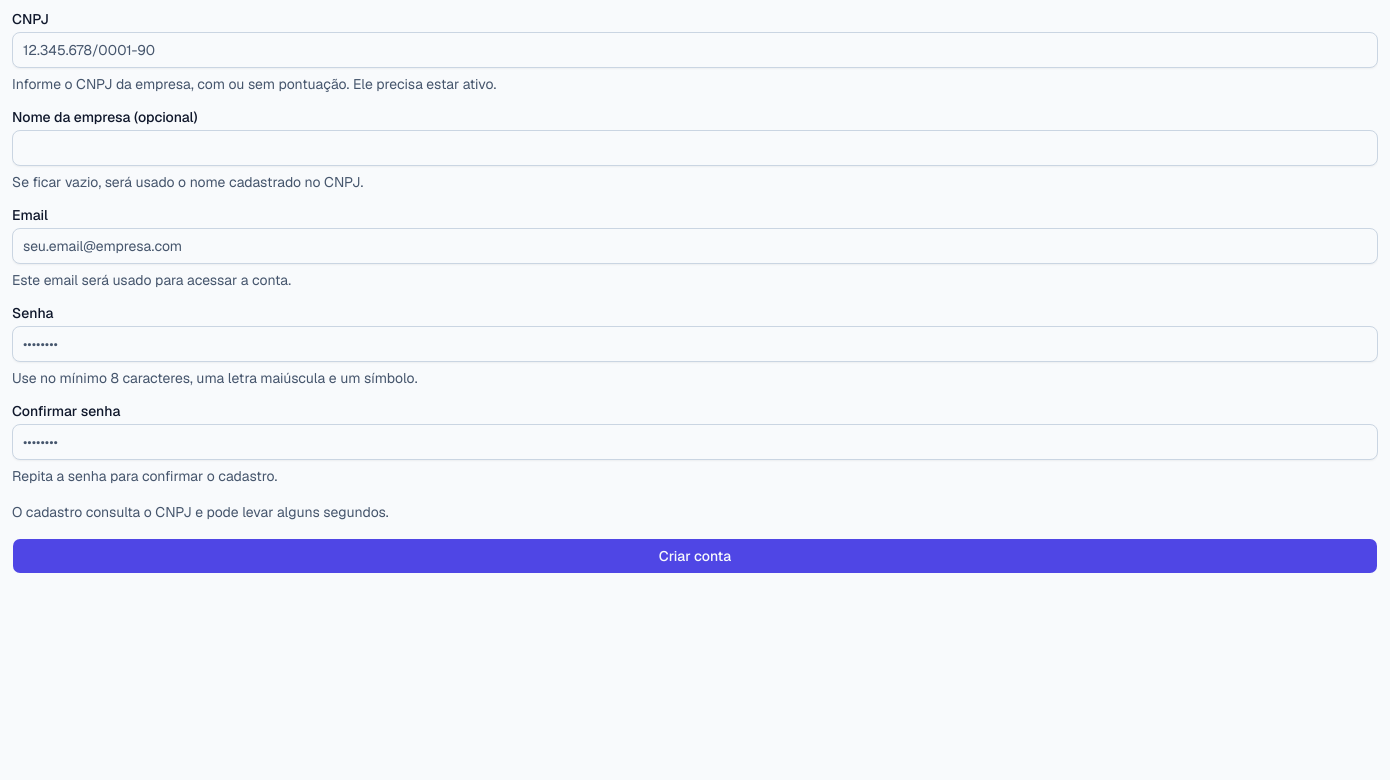
Scenario: registration UI › offers login instead of a second registration when automatic login fails
In the field labelled "CNPJ": (695,50) x1=12 y1=32 x2=1378 y2=68, type "55444333000101"
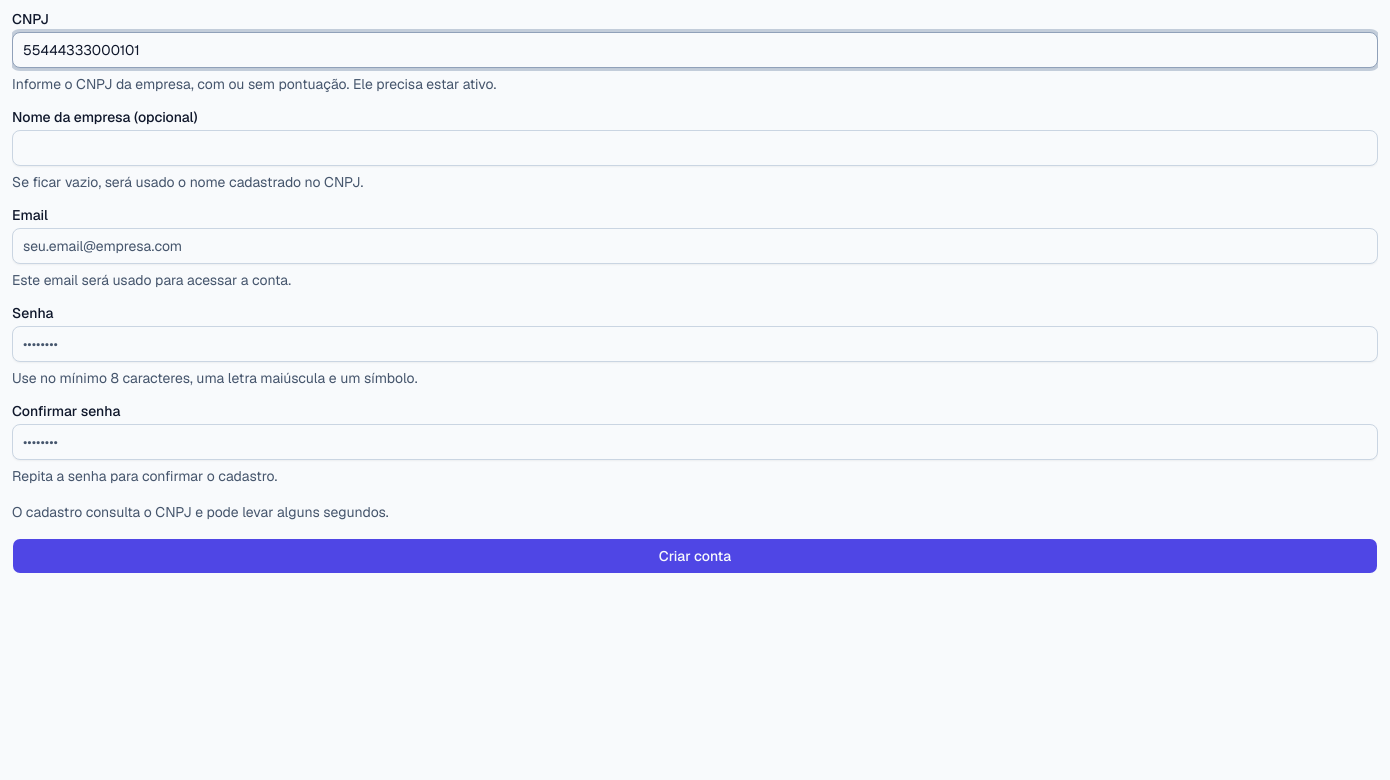
In the field labelled "Email": (695,246) x1=12 y1=228 x2=1378 y2=264, type "test@example.com"
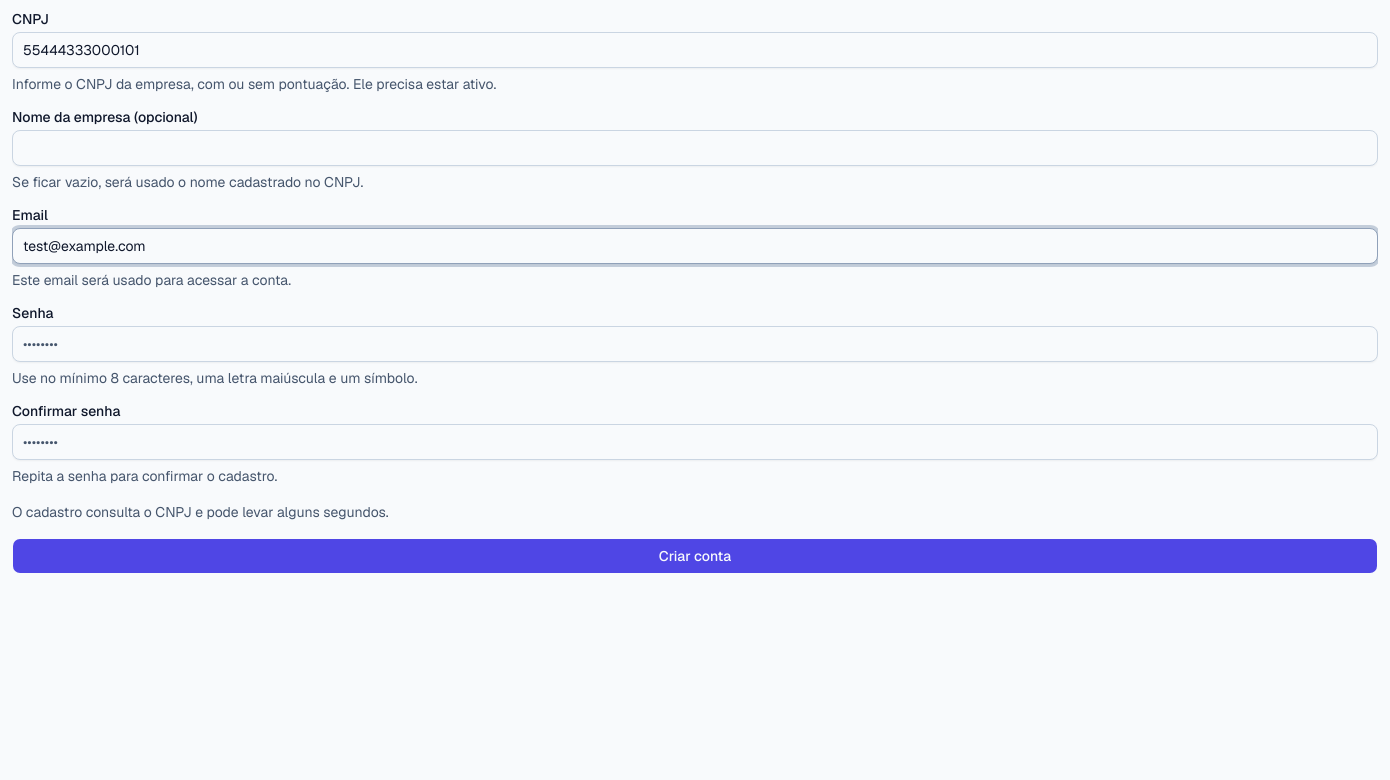
In the password field labelled "Senha": (695,344) x1=12 y1=326 x2=1378 y2=362, type "Test-password!"
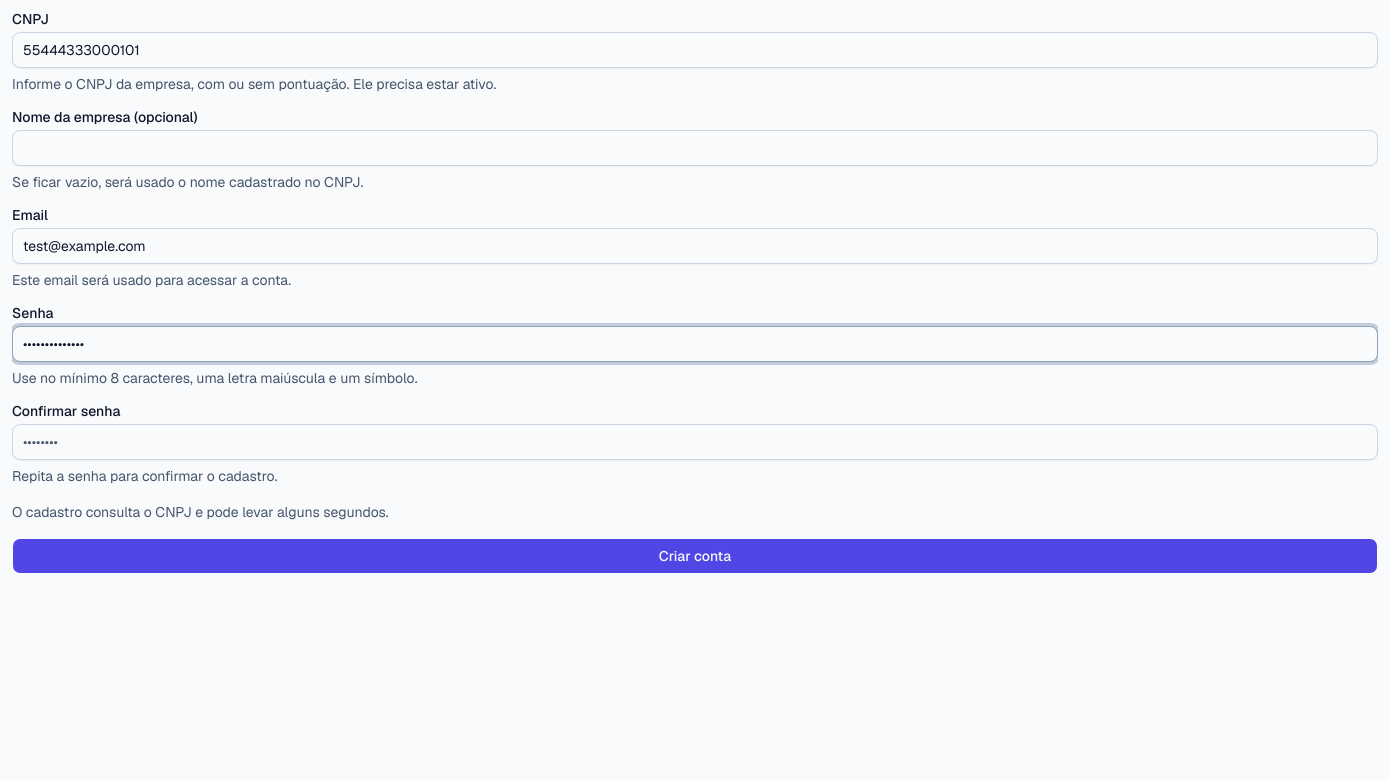
In the password field labelled "Confirmar senha": (695,442) x1=12 y1=424 x2=1378 y2=460, type "Test-password!"
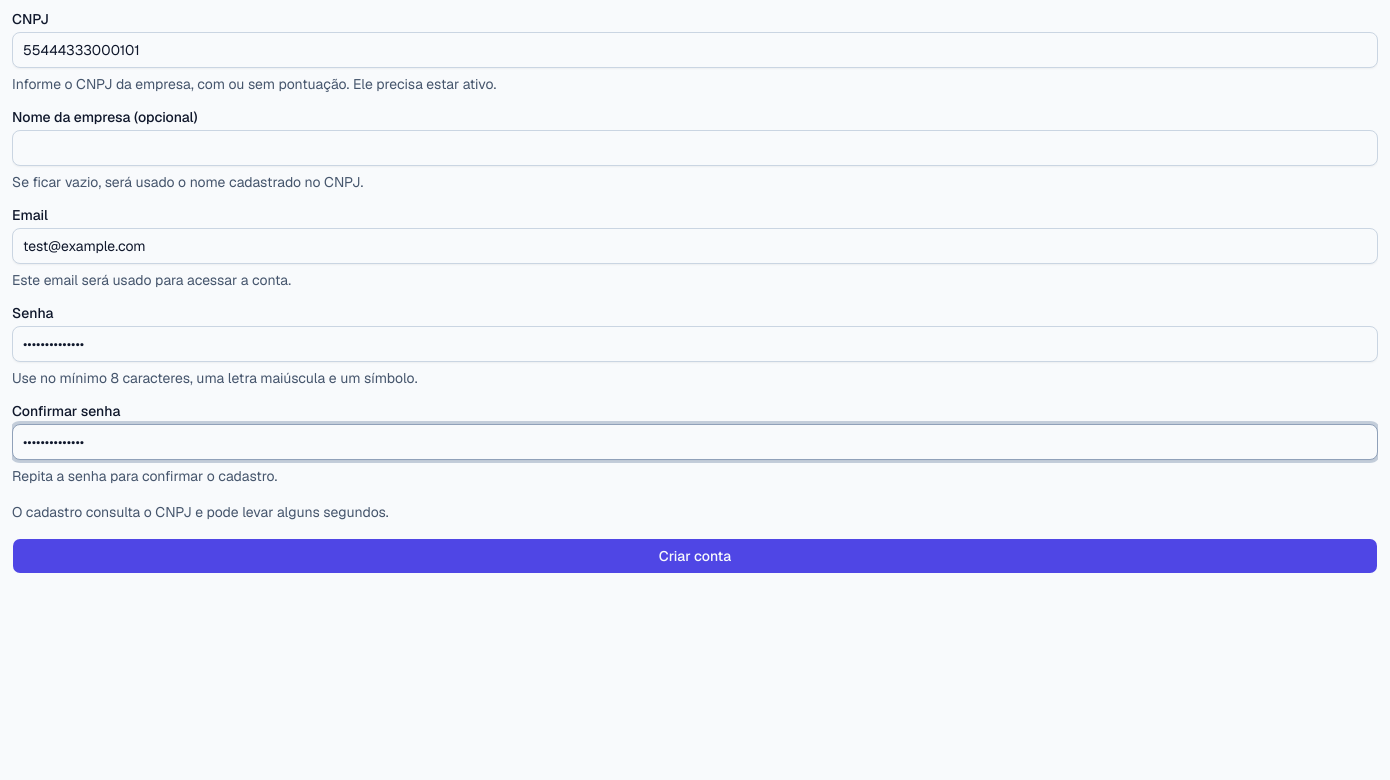
Click the button "Criar conta": (695,556) x1=12 y1=538 x2=1378 y2=574
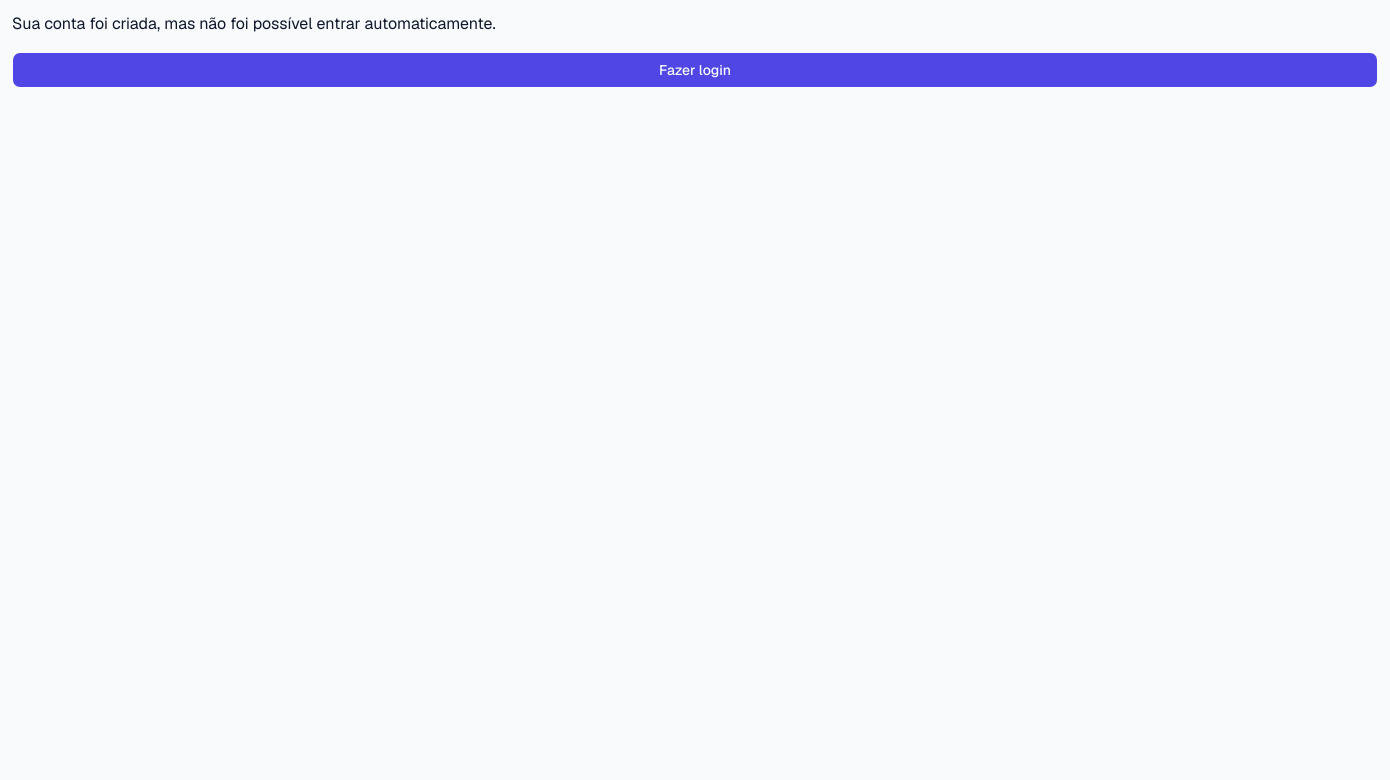
Result: the message shows "Sua conta foi criada" at x1=12 y1=13 x2=496 y2=34
Result: the button "Criar conta" is gone
